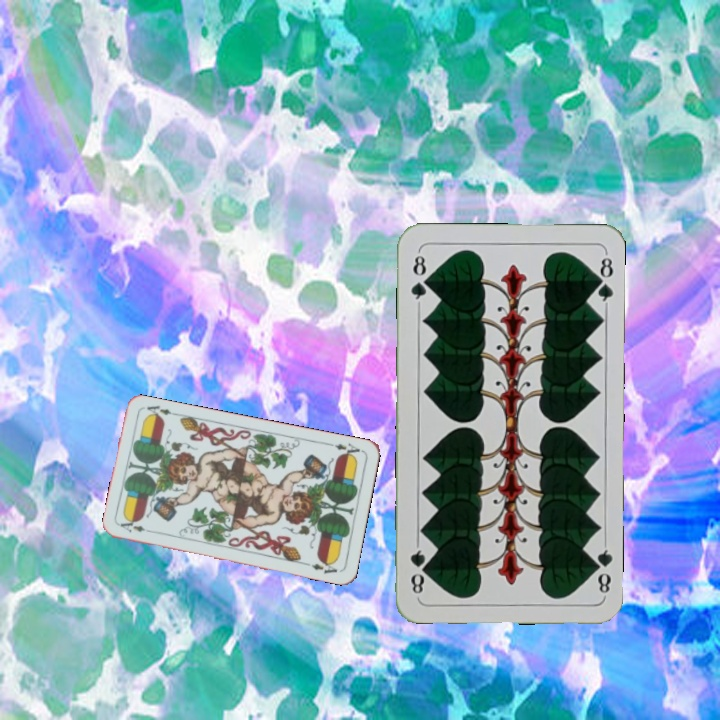EA: (324, 439, 365, 460), (116, 519, 156, 535)
G8: (588, 539, 615, 596), (406, 248, 430, 307)
